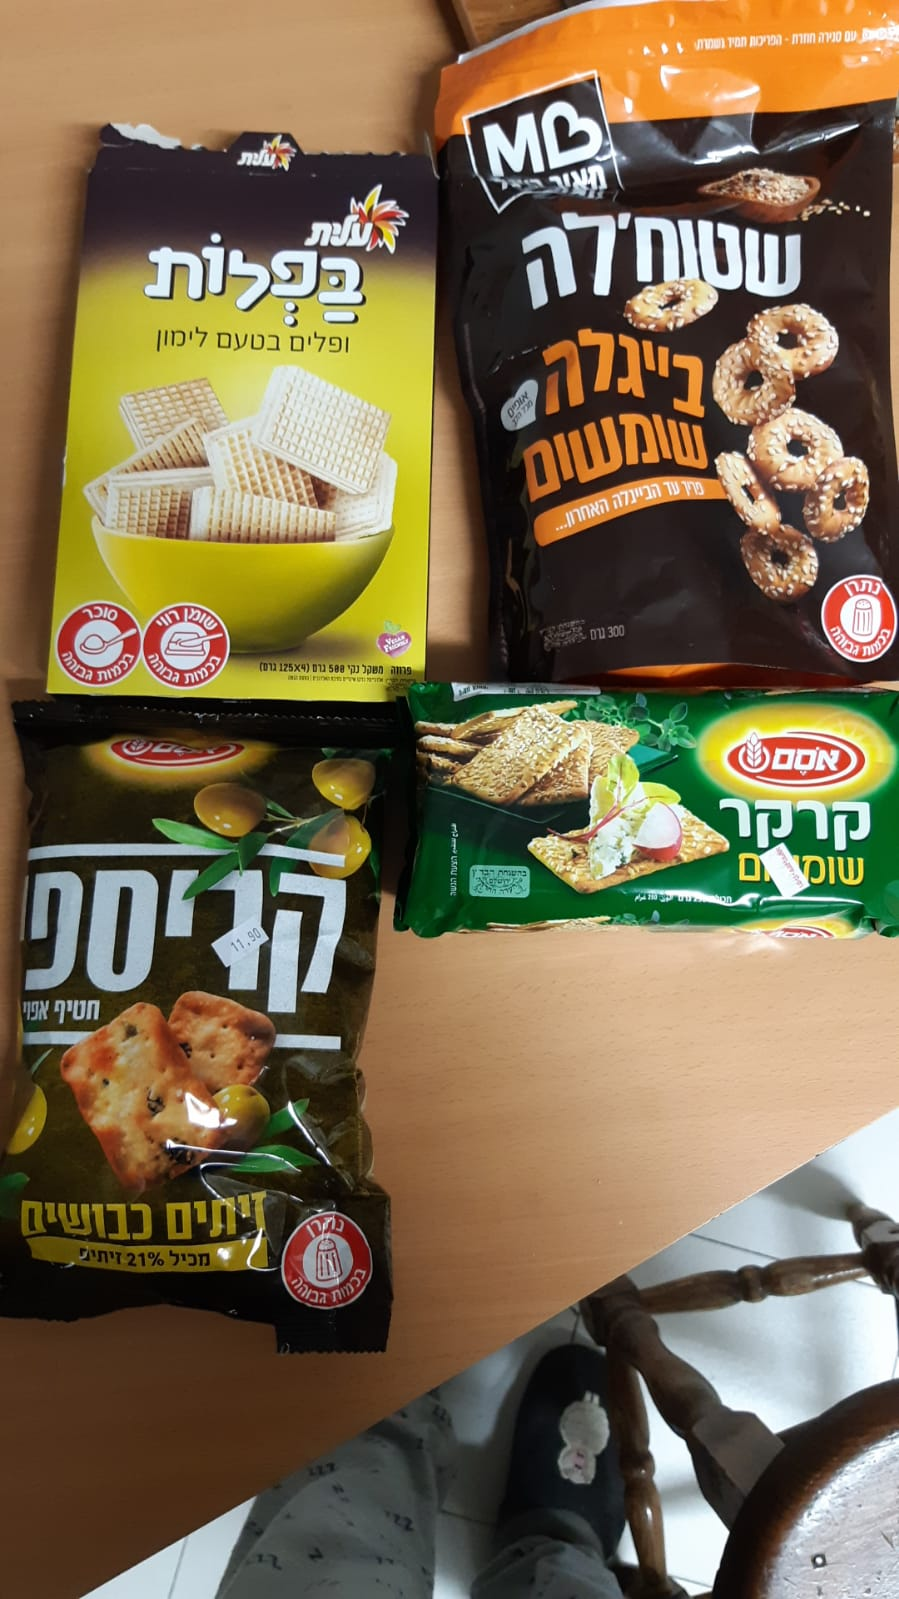fat: (141, 602, 231, 689)
salt: (281, 1209, 375, 1310), (818, 575, 898, 662)
sugar: (55, 602, 143, 687)
